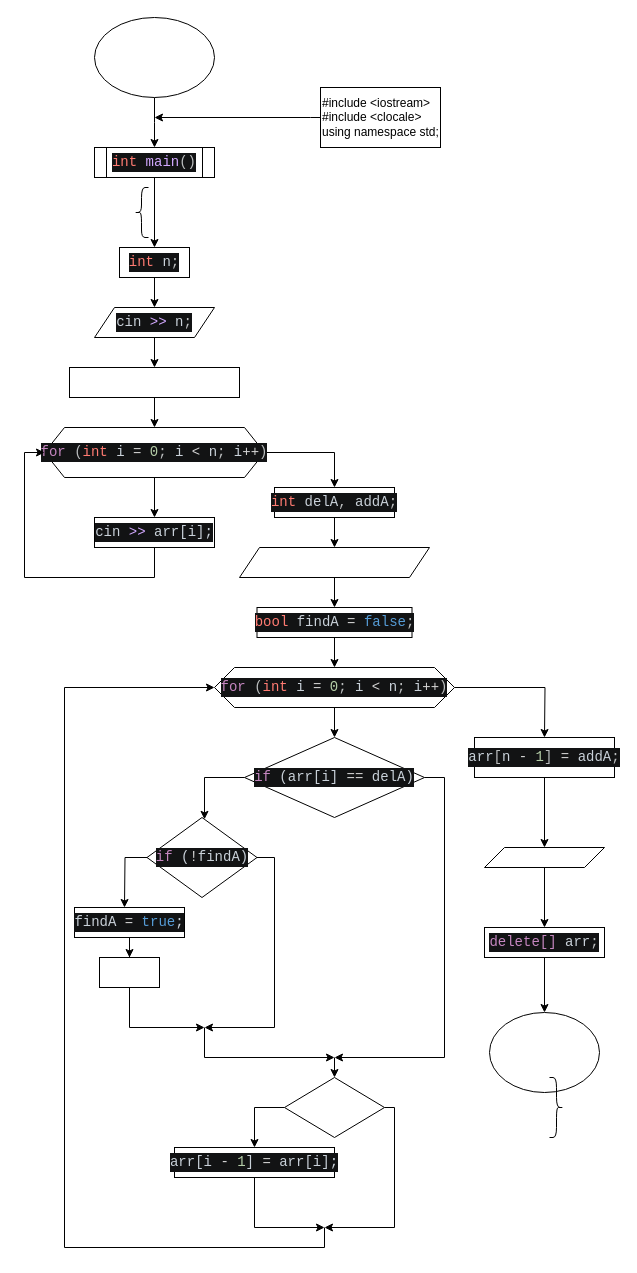
The diagram is 637 pixels wide and 1273 high, and some of its shapes have lost their labels. The centre of each missing label's shape, as x and y in pixels:
cin >> delA >> addA ;: point 334,562
cout << arr;: point 544,857
i ++ ;: point 129,972
if ( findA ): point 334,1107
int * arr = new int [ n ];: point 154,382
return 0 ;: point 544,1052
НАЧАЛО: point 154,57
